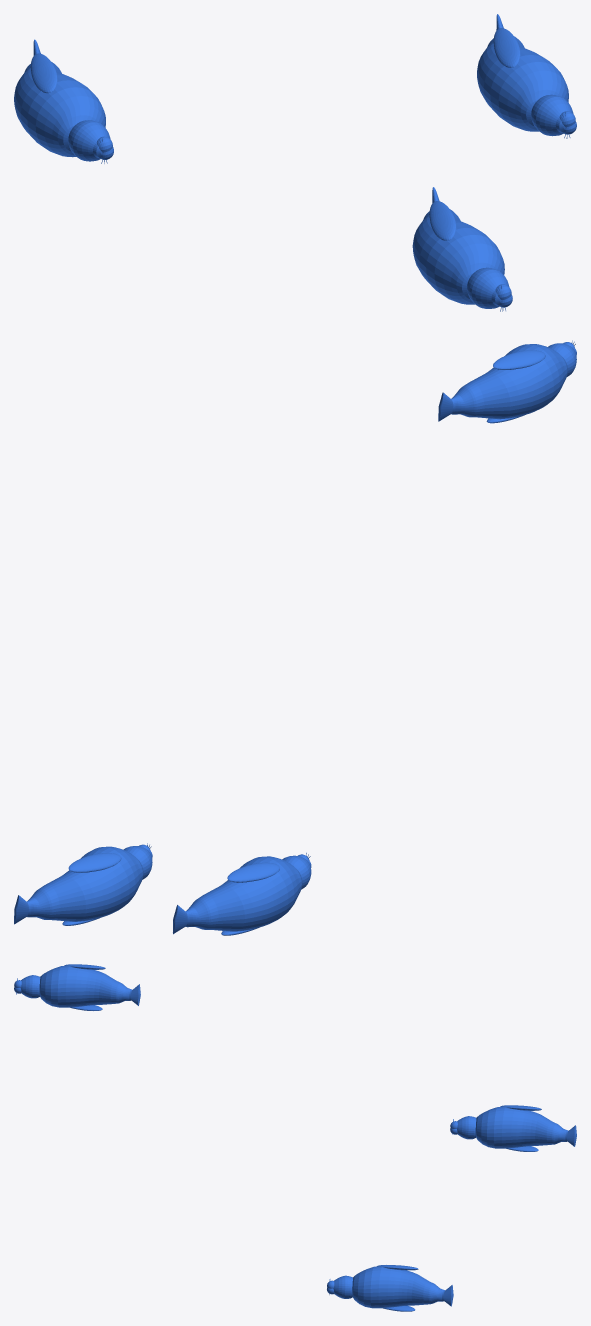
Rendered from Small Seals.gltf.
3 renders of one model, top to bottom at view 1: azimuth 30°, elevation 25°; view 2: azimuth 150°, elevation 25°; view 3: azimuth 270°, elevation 25°, orthographic. The views are drawn at different scales.
Visible parts, largest first — view 1: Sphere.004, Sphere.002, Sphere.005; view 2: Sphere.005, Sphere.002, Sphere.004; view 3: Sphere.002, Sphere.004, Sphere.005.
Part boxes in pixels (left/top/right/bottom): Sphere.004: left=14, top=39, right=113, bottom=163; Sphere.002: left=412, top=187, right=512, bottom=311; Sphere.005: left=477, top=14, right=576, bottom=138; Sphere.005: left=438, top=340, right=576, bottom=423; Sphere.002: left=14, top=843, right=152, bottom=925; Sphere.004: left=173, top=852, right=311, bottom=935; Sphere.002: left=327, top=1265, right=453, bottom=1311; Sphere.004: left=450, top=1105, right=576, bottom=1151; Sphere.005: left=14, top=964, right=140, bottom=1010.
Bounding box in the file's own units: 0.1278 × 0.1676 × 0.3008.
